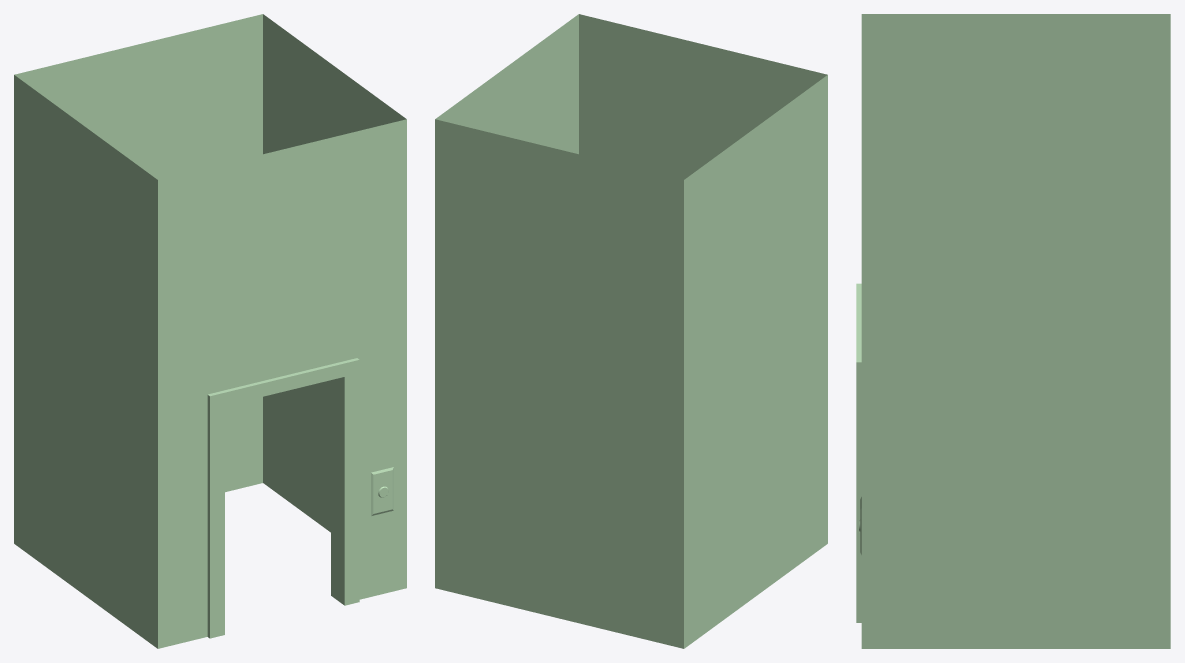
File: mesh_police_lift.fbx
3 views of the same model, side by side, from view 1: azimuth 30°, elevation 25°; view 2: azimuth 150°, elevation 25°; view 3: azimuth 270°, elevation 25° (orthographic). The views are drawn at different scales.
Parts seen in each view (by area): view 1: lift; view 2: lift; view 3: lift.
Boxes of the visible parts, x1,y1,x2,y2 form: lift: (14, 14, 406, 648); lift: (435, 14, 827, 648); lift: (856, 14, 1170, 648).
Size of the model in its own units: 300 by 540 by 305.
